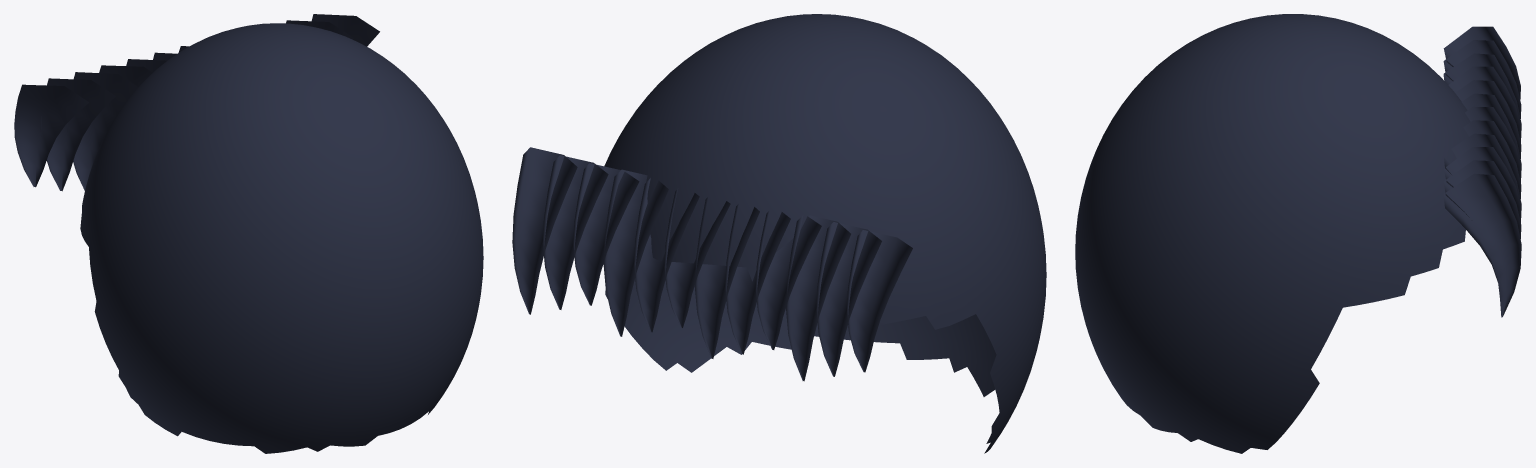
File: anime_hair_tess.glb
3 renders of one model, left to right at view 1: azimuth 30°, elevation 25°; view 2: azimuth 150°, elevation 25°; view 3: azimuth 270°, elevation 25°, orthographic. The views are drawn at different scales.
Parts seen in each view (by area): view 1: hair_cap, hair; view 2: hair_cap, hair; view 3: hair_cap, hair.
Part boxes in pixels (<box>): hair_cap: <box>80,23,483,453</box>; hair: <box>14,14,379,191</box>; hair_cap: <box>603,14,1046,453</box>; hair: <box>512,147,912,381</box>; hair_cap: <box>1075,14,1470,453</box>; hair: <box>1443,26,1521,317</box>.
Size of the model in its own units: 0.282 by 0.268 by 0.3034.
